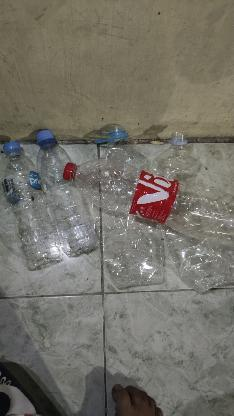Plastic Bottle: (85, 124, 234, 294), (37, 129, 95, 261)
